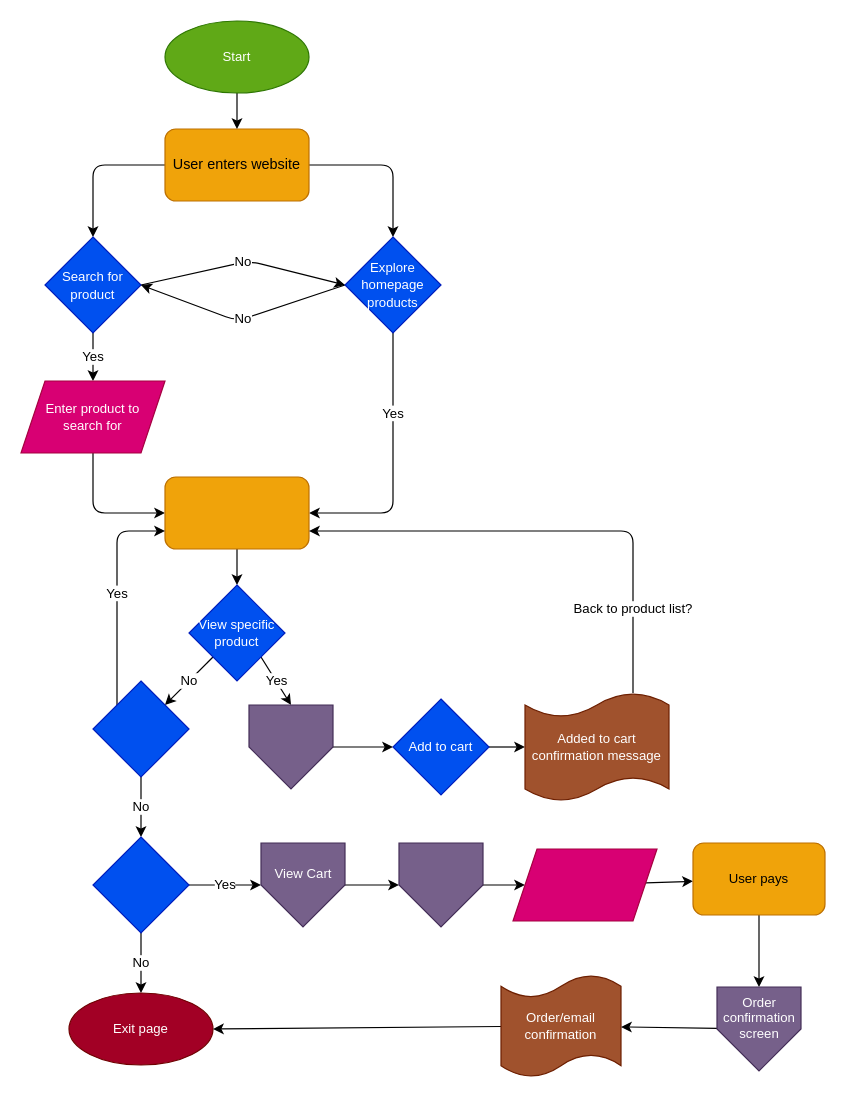
Image size: 846x1098. Some labels were removed from this diagram. The centre of each missing label's shape, as x and y in pixels:
Checkout: (140,884)
Continue shopping: (140,728)
Enter payment information: (584,884)
See product web page: (290,746)
User looks over products: (236,512)
View Payment: (440,884)
